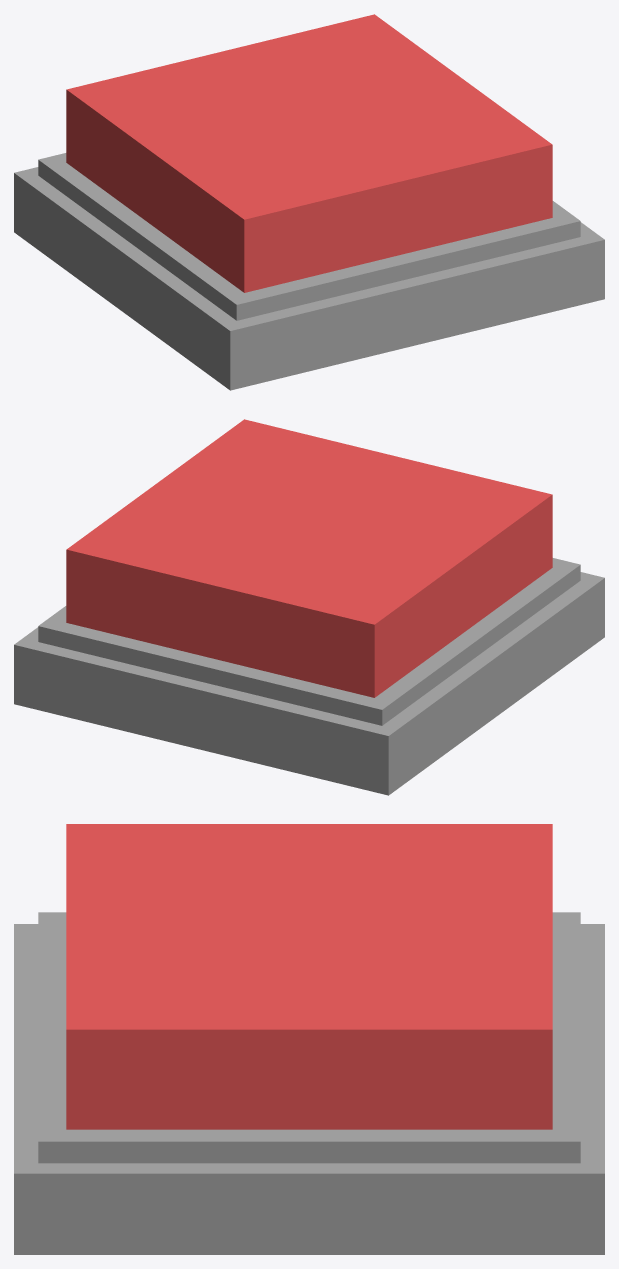
Rendered from Button.fbx.
3 views of the same model, one above another, from view 1: azimuth 30°, elevation 25°; view 2: azimuth 150°, elevation 25°; view 3: azimuth 270°, elevation 25° (orthographic). The views are drawn at different scales.
Parts seen in each view (by area): view 1: ButtonDown, ButtonBase; view 2: ButtonDown, ButtonBase; view 3: ButtonDown, ButtonBase.
Boxes of the visible parts, x1,y1,x2,y2 form: ButtonDown: [66, 14, 552, 292]; ButtonBase: [14, 153, 604, 390]; ButtonDown: [66, 419, 552, 697]; ButtonBase: [14, 558, 604, 795]; ButtonDown: [66, 824, 552, 1129]; ButtonBase: [14, 912, 604, 1254].
Size of the model in its own units: 100 by 37.93 by 100.
1 material, 1 textured.
